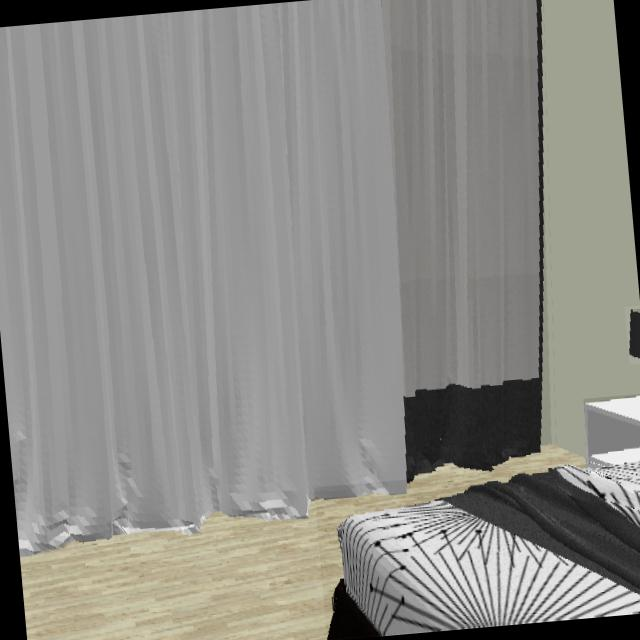bed: (327, 463, 640, 640)
lamp: (626, 305, 640, 360)
nighttable: (585, 394, 640, 463)
